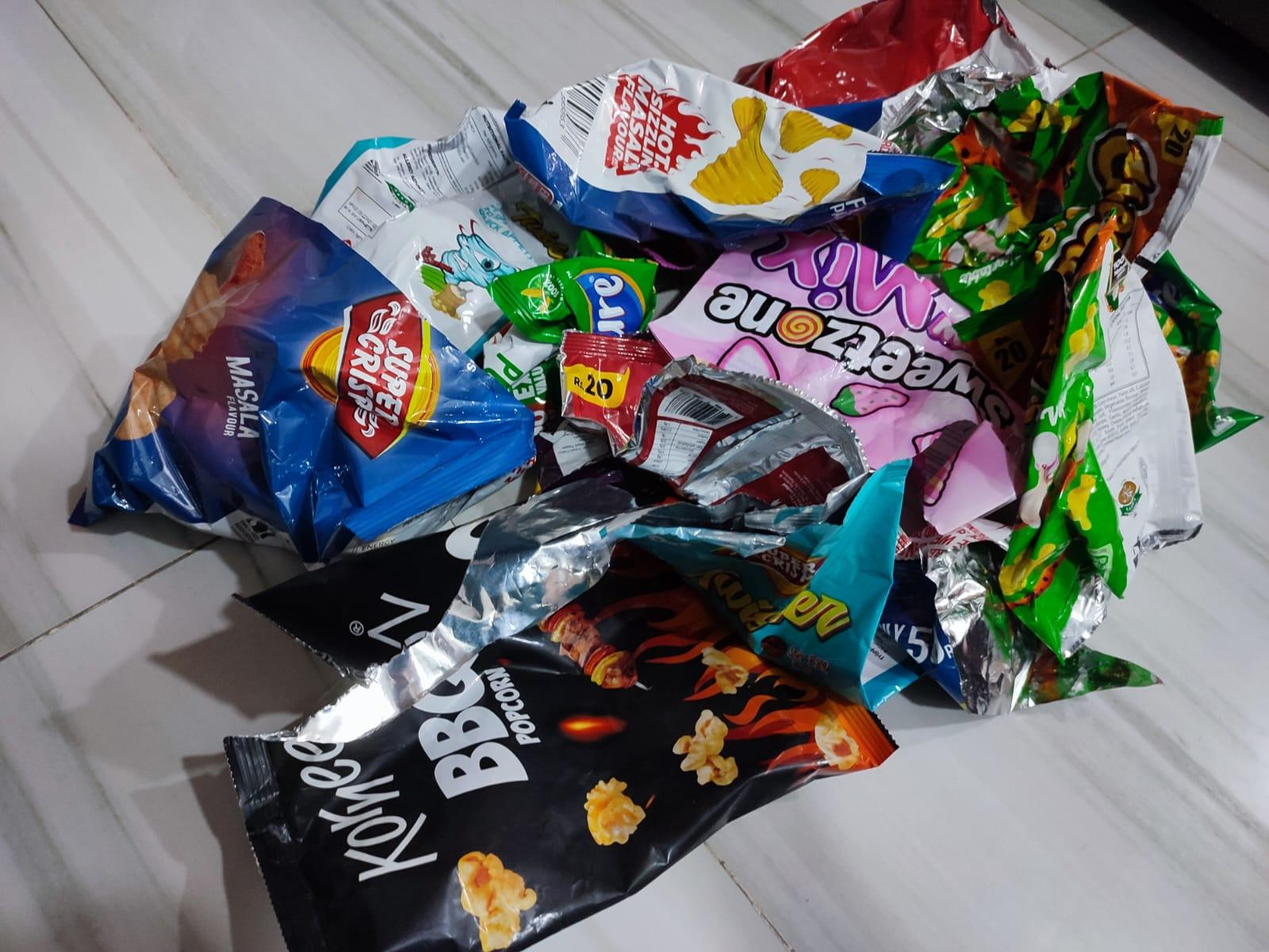garbage: (71, 3, 1243, 952)
